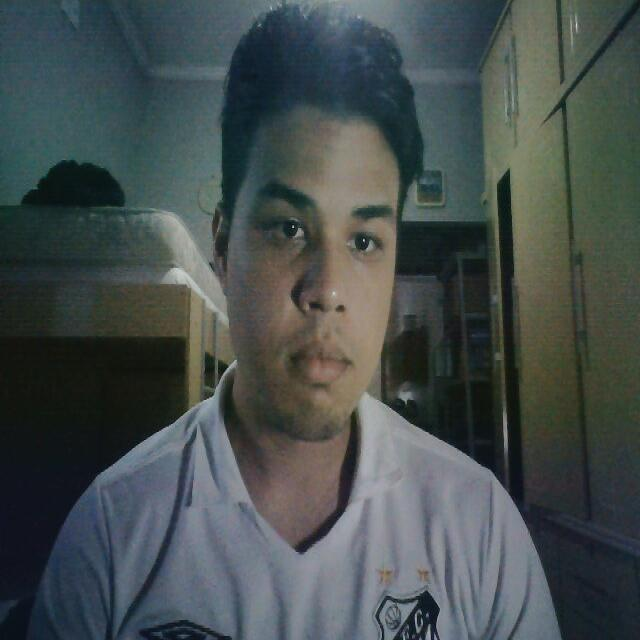acordado: (215, 83, 406, 442)
